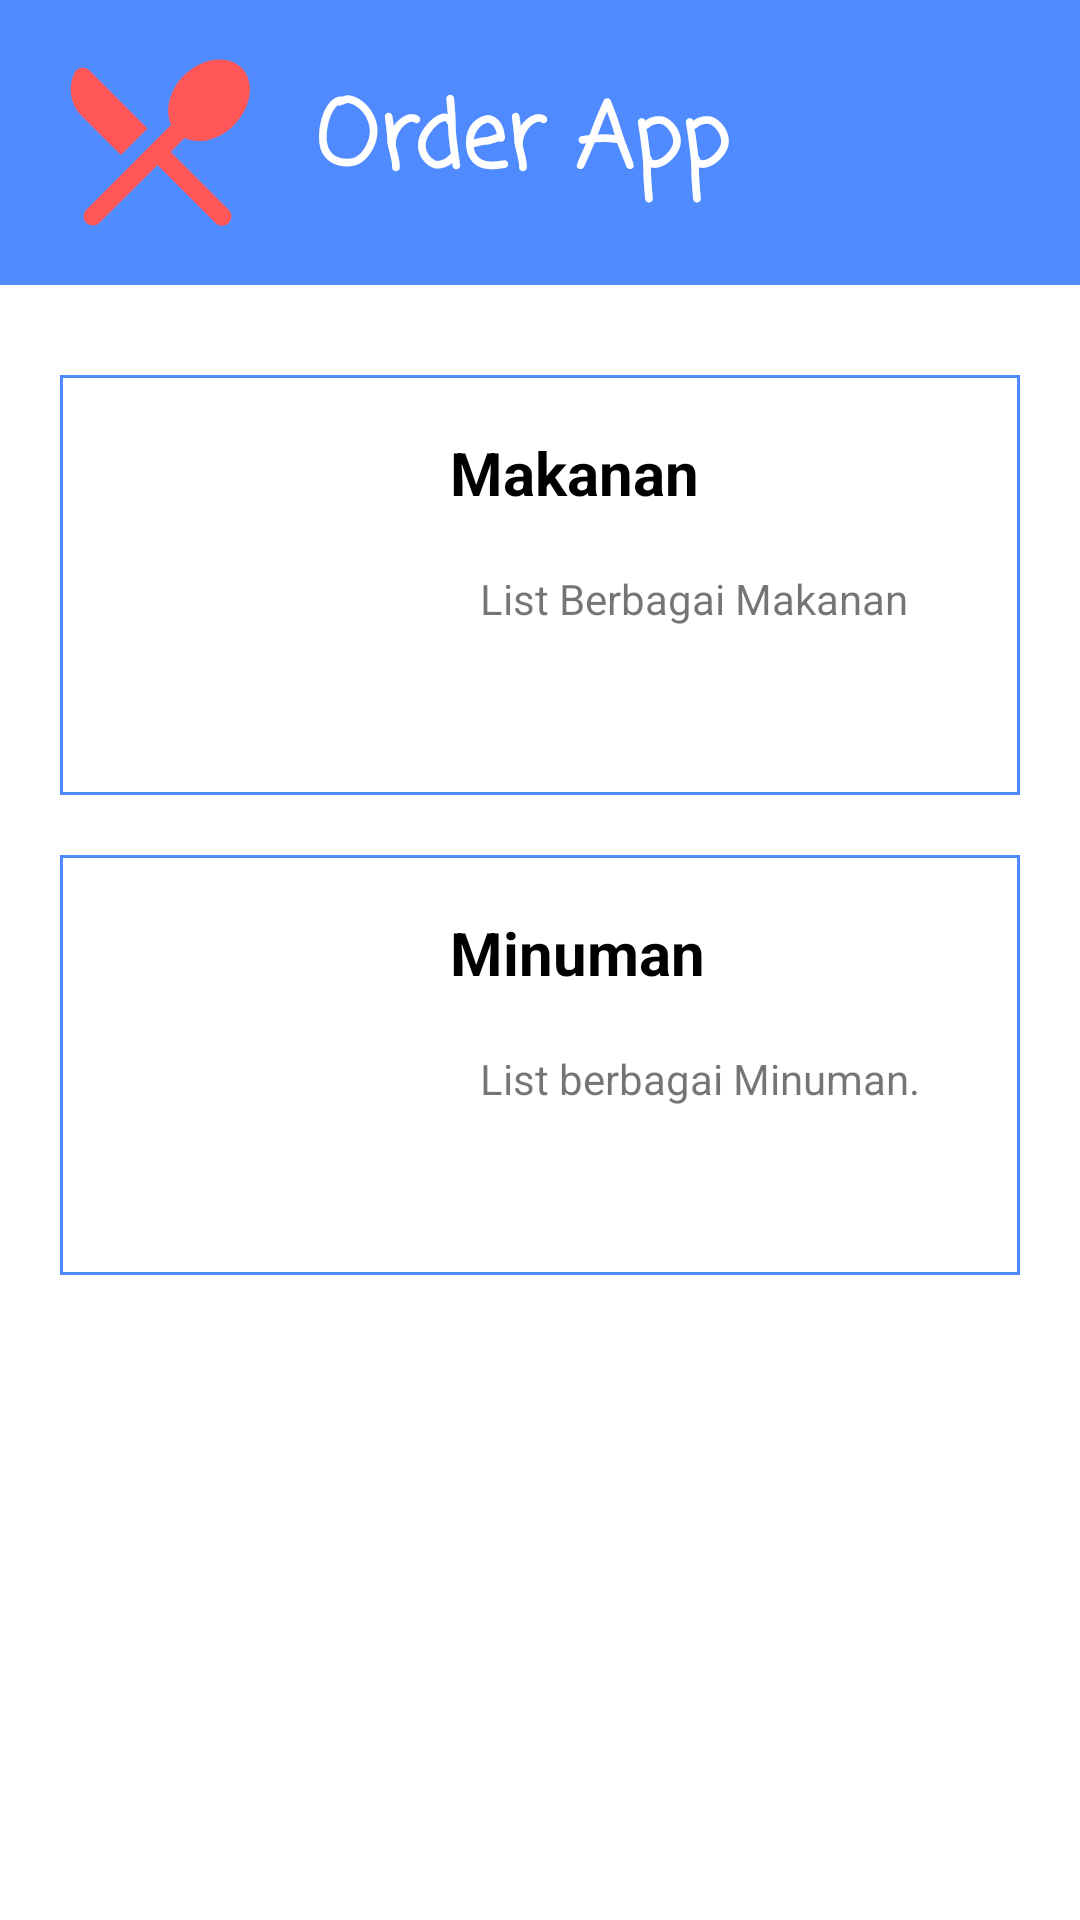

Icons on this 1080x1920 Android screen, each with its box as [x1, y1, x2, y2]:
local dining: [70, 59, 250, 226]
